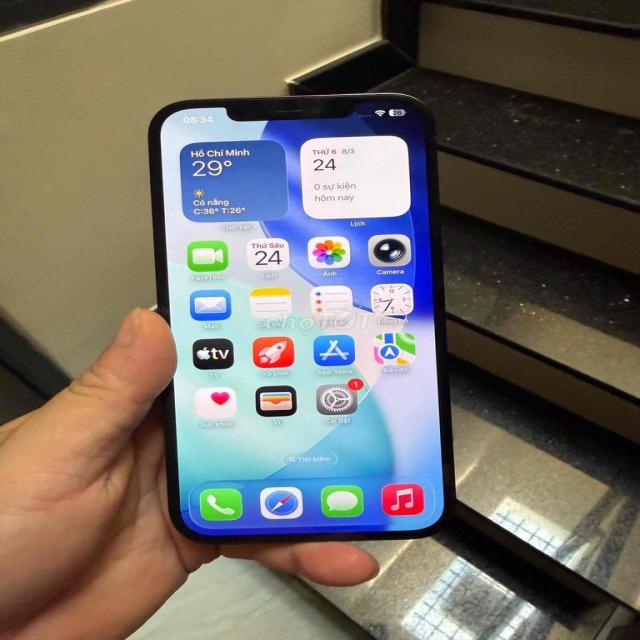gen_12_13: (152, 94, 468, 541)
